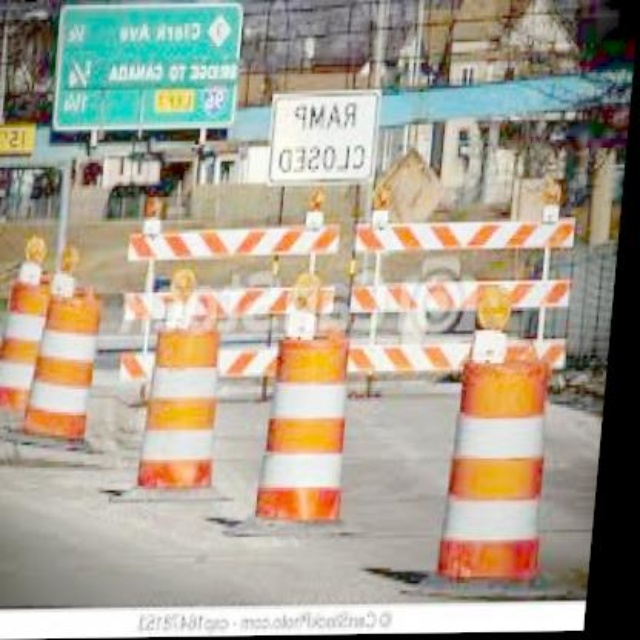obstacle: (443, 348, 568, 589), (262, 330, 362, 525), (138, 322, 237, 493), (23, 294, 113, 439)
